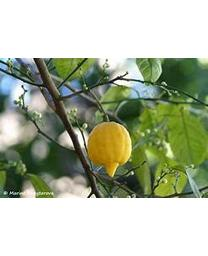lemon: (88, 122, 131, 178)
